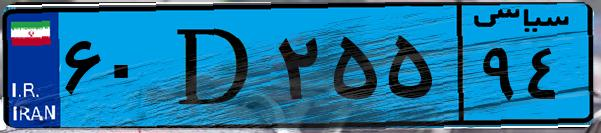0: (110, 28, 158, 98)
2: (270, 28, 330, 110)
4: (525, 38, 570, 115)
5: (385, 28, 445, 110), (330, 28, 385, 110)
6: (57, 26, 110, 100)
9: (475, 38, 525, 113)
D: (158, 12, 270, 120)
